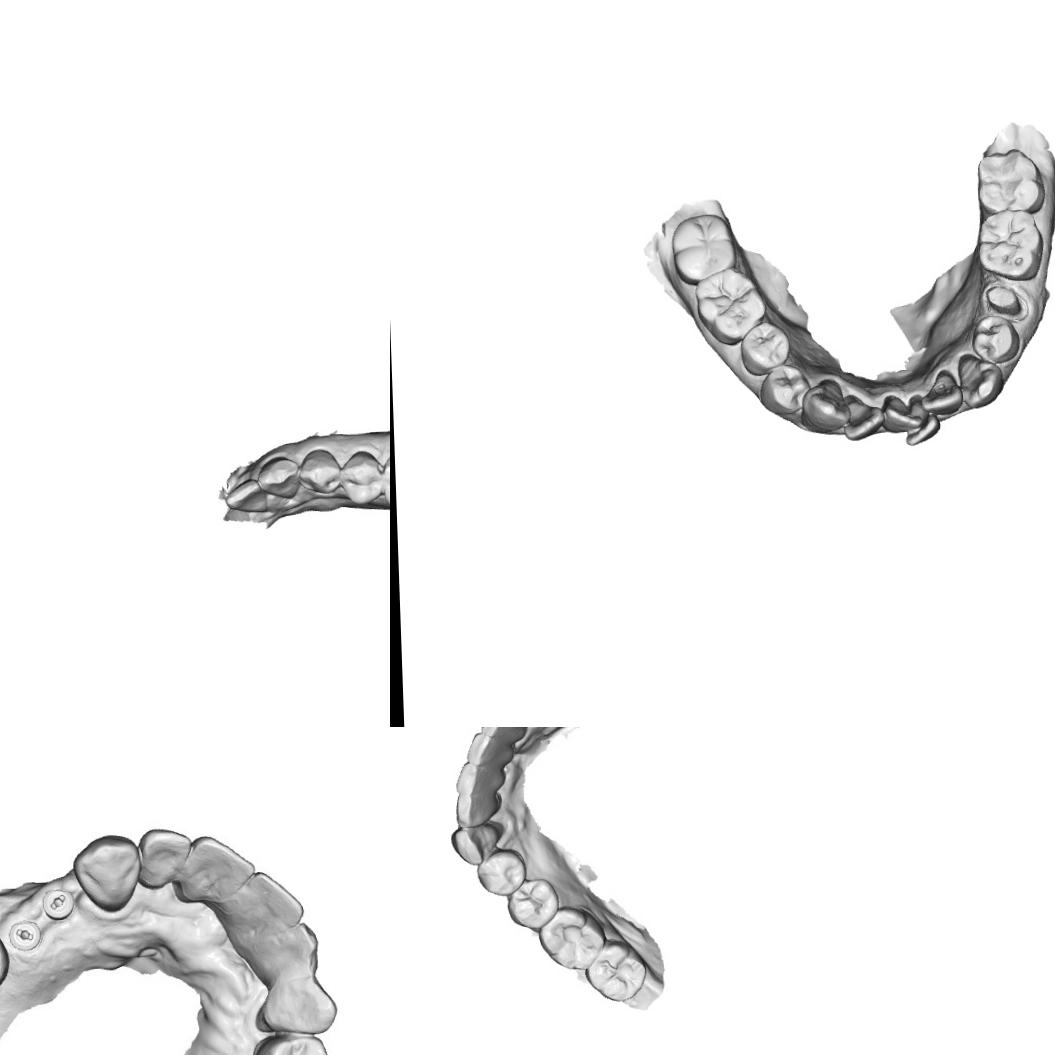canine: (71, 831, 145, 914), (258, 970, 338, 1044), (799, 376, 852, 435), (957, 352, 1005, 410), (255, 454, 304, 503), (450, 823, 501, 867)
crown: (983, 281, 1029, 323)
implant_minus: (7, 912, 40, 955), (39, 889, 75, 924)
incisor: (173, 824, 248, 906), (224, 870, 302, 937), (248, 917, 336, 974), (137, 823, 202, 887), (839, 392, 886, 442), (920, 368, 964, 416), (452, 759, 506, 797), (222, 476, 270, 517), (904, 393, 941, 446), (453, 790, 502, 829), (464, 730, 514, 766), (880, 393, 923, 434), (478, 727, 526, 741)
molar: (692, 265, 767, 347), (670, 212, 740, 287), (976, 208, 1045, 284), (536, 904, 606, 974), (974, 146, 1046, 213), (584, 938, 649, 1004)
premolar: (505, 876, 562, 933), (336, 448, 386, 508), (739, 320, 791, 377), (758, 362, 812, 416), (475, 846, 529, 898), (970, 314, 1021, 365), (295, 446, 344, 498), (250, 1032, 331, 1055)
